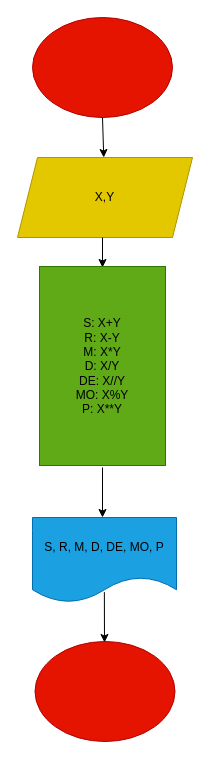
This 210x759 diagram has some shape labels left out. The shapes that lost their labels are listed below. From the top down, each one's centre as x and y in pixels, then its label:
At point 102,67: "INICIO".
At point 104,691: "FIN".
